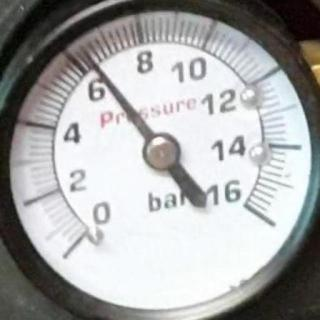gauge: (0, 0, 320, 320), (208, 173, 284, 247), (50, 197, 126, 271), (141, 130, 183, 172), (93, 64, 104, 75)
